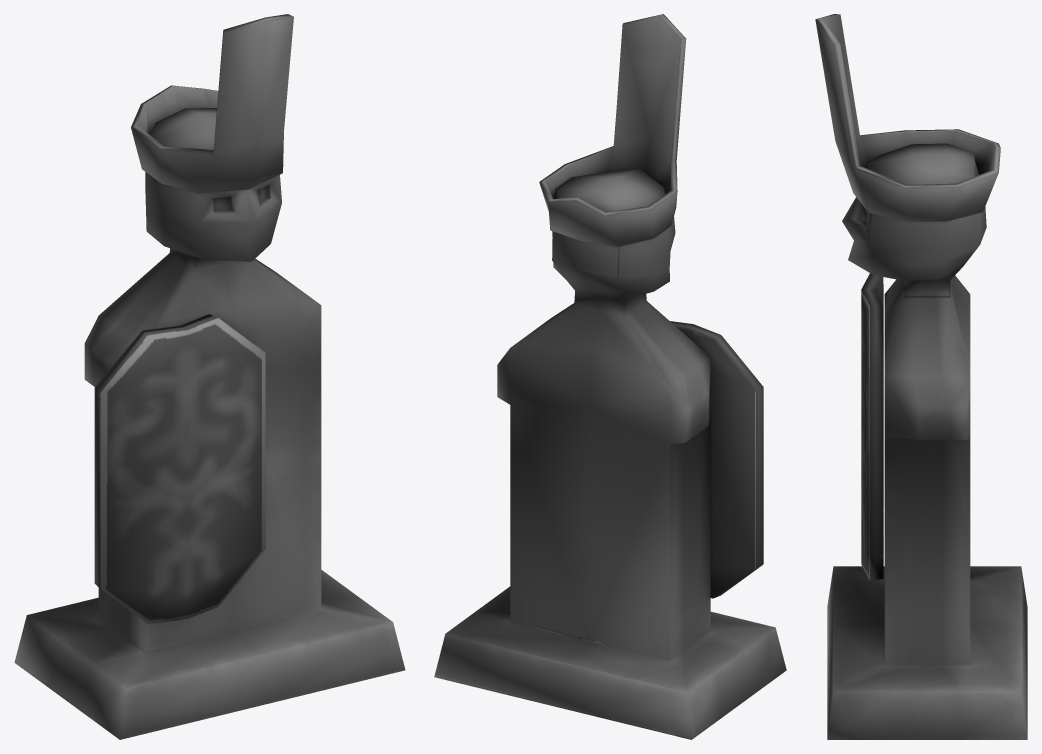
File: patung_sapundu.glb
3 renders of one model, left to right at view 1: azimuth 30°, elevation 25°; view 2: azimuth 150°, elevation 25°; view 3: azimuth 270°, elevation 25°, orthographic. The views are drawn at different scales.
Parts seen in each view (by area): view 1: patung_sapundu_1; view 2: patung_sapundu_1; view 3: patung_sapundu_1.
Boxes of the visible parts, left/top/right/bottom form: patung_sapundu_1: left=14, top=14, right=405, bottom=739; patung_sapundu_1: left=434, top=14, right=786, bottom=739; patung_sapundu_1: left=815, top=14, right=1027, bottom=739.
Size of the model in its own units: 2.1 by 4.84 by 1.42.
Materials: 1 (1 with a texture image).
